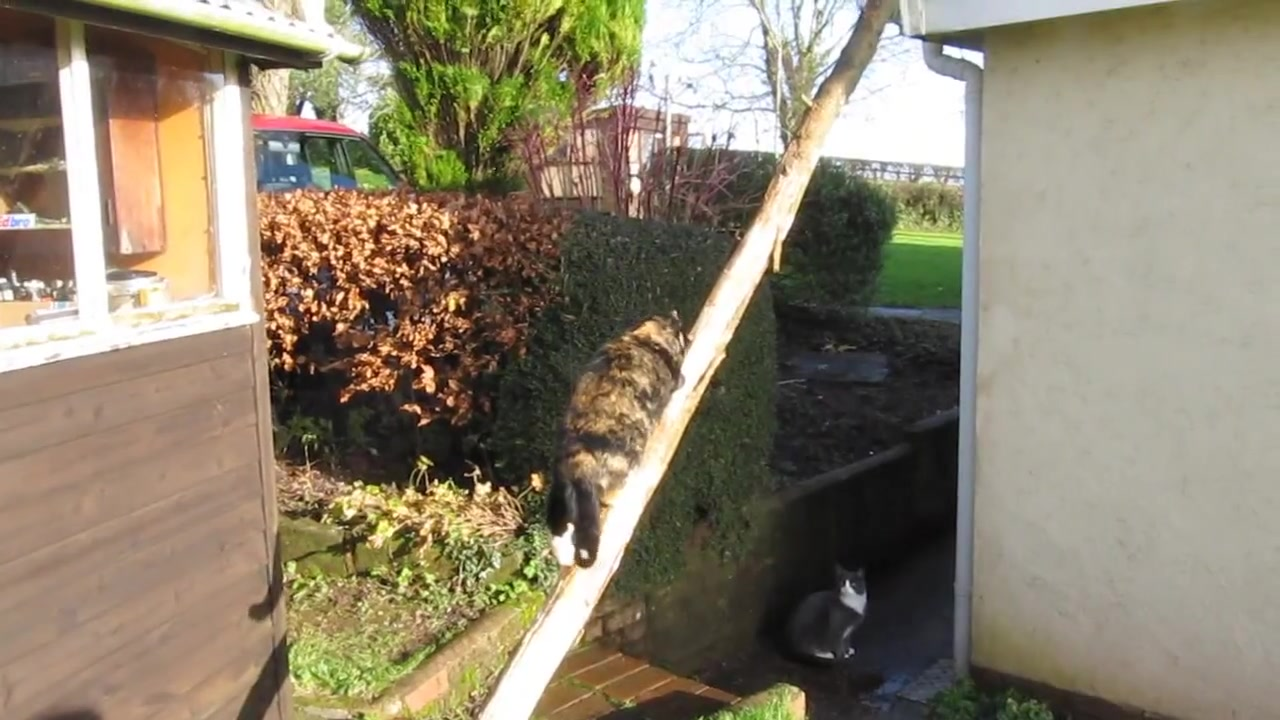cat: (545, 294, 697, 571)
